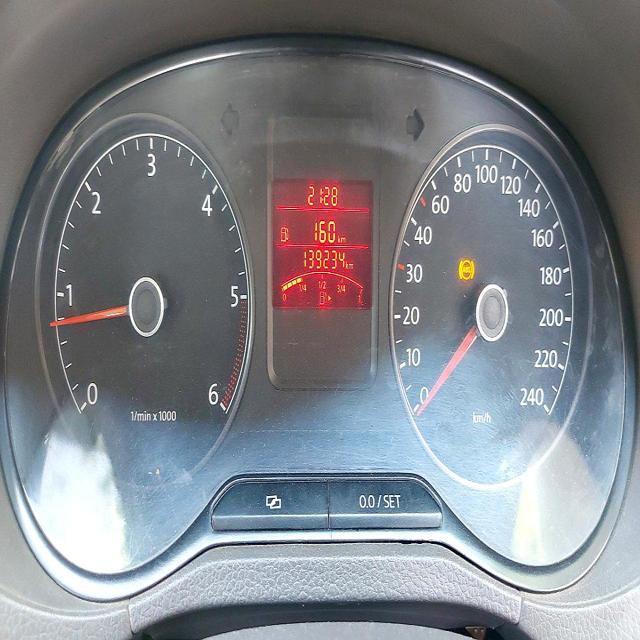odometer: (301, 246, 345, 274)
